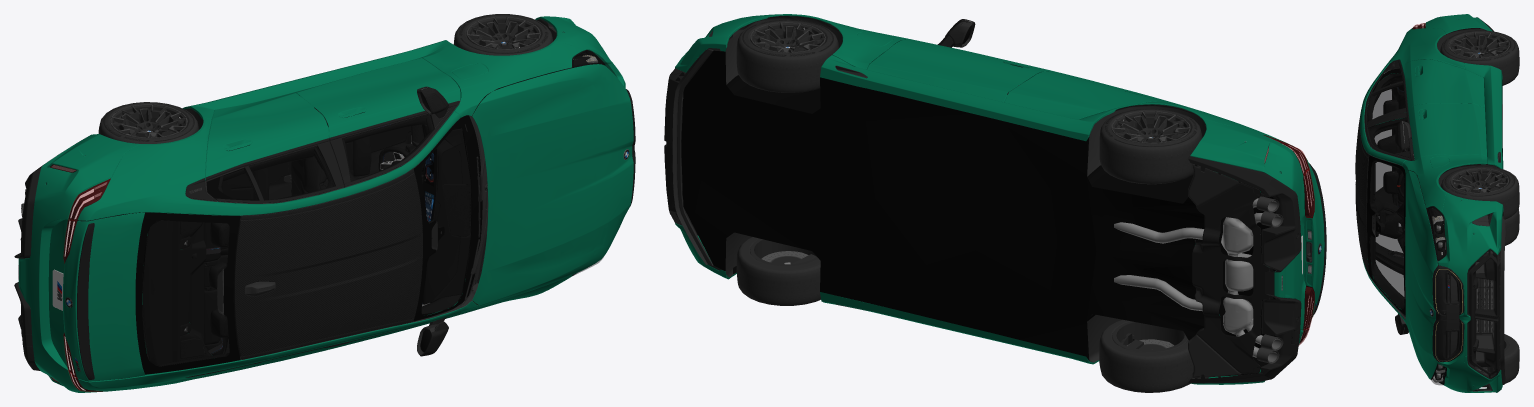
The picture shows the model from 3 angles, left to right: view 1: azimuth 30°, elevation 25°; view 2: azimuth 150°, elevation 25°; view 3: azimuth 270°, elevation 25°; orthographic projection. The views are drawn at different scales.
Parts seen in each view (by area): view 1: body_mesh, wheel_RL_mesh, wheel_FL_mesh; view 2: body_mesh, wheel_RL_mesh, wheel_FL_mesh, wheel_RR_mesh, wheel_FR_mesh; view 3: body_mesh, wheel_RL_mesh, wheel_FL_mesh, wheel_FR_mesh, wheel_RR_mesh.
Boxes of the visible parts, bbox=[...] form: body_mesh: bbox=[14, 16, 635, 392]; wheel_RL_mesh: bbox=[98, 102, 198, 143]; wheel_FL_mesh: bbox=[453, 14, 553, 55]; body_mesh: bbox=[664, 14, 1326, 384]; wheel_RL_mesh: bbox=[1099, 109, 1202, 184]; wheel_FL_mesh: bbox=[736, 19, 838, 92]; wheel_RR_mesh: bbox=[1099, 319, 1193, 392]; wheel_FR_mesh: bbox=[736, 237, 820, 305]; body_mesh: bbox=[1355, 14, 1505, 392]; wheel_RL_mesh: bbox=[1440, 30, 1519, 85]; wheel_FL_mesh: bbox=[1441, 166, 1519, 219]; wheel_FR_mesh: bbox=[1482, 334, 1519, 387]; wheel_RR_mesh: bbox=[1504, 209, 1519, 245].
Bounding box in the file's own units: 5.1 × 2.16 × 1.53.
Materials: 25 (18 with a texture image).
